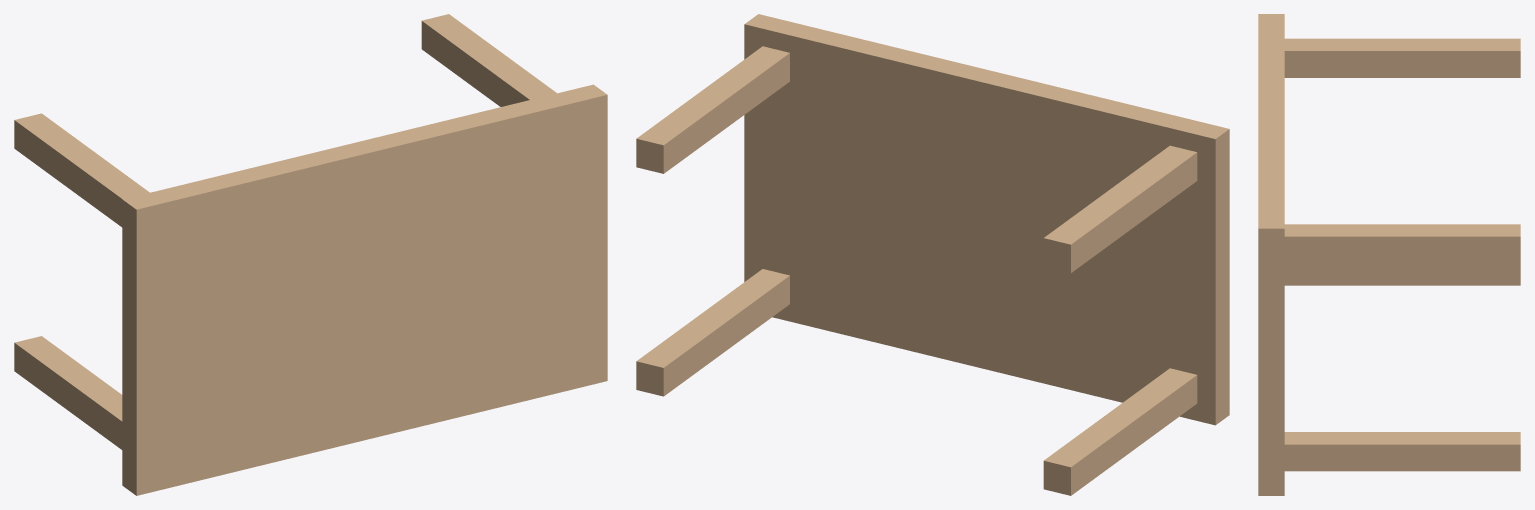
File: dining_table.glb
3 renders of one model, left to right at view 1: azimuth 30°, elevation 25°; view 2: azimuth 150°, elevation 25°; view 3: azimuth 270°, elevation 25°, orthographic. The views are drawn at different scales.
Parts seen in each view (by area): view 1: world; view 2: world; view 3: world.
Boxes of the visible parts, x1,y1,x2,y2 form: world: (14,14,607,495); world: (636,14,1229,495); world: (1258,14,1520,495).
Size of the model in its own units: 1.55 by 0.9 by 0.8.
